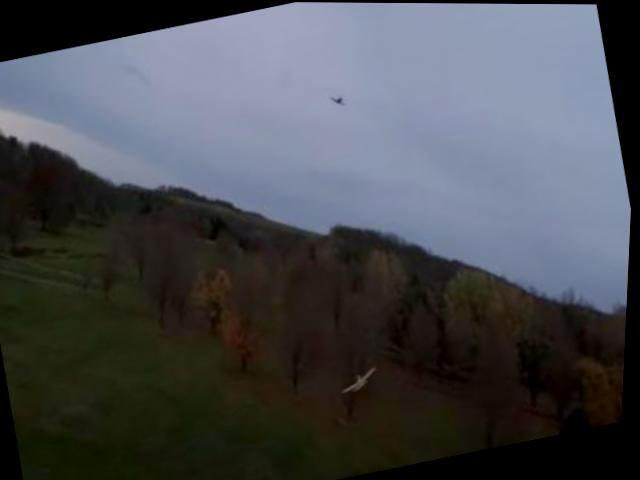uav: (337, 359, 389, 406), (322, 85, 351, 116)
